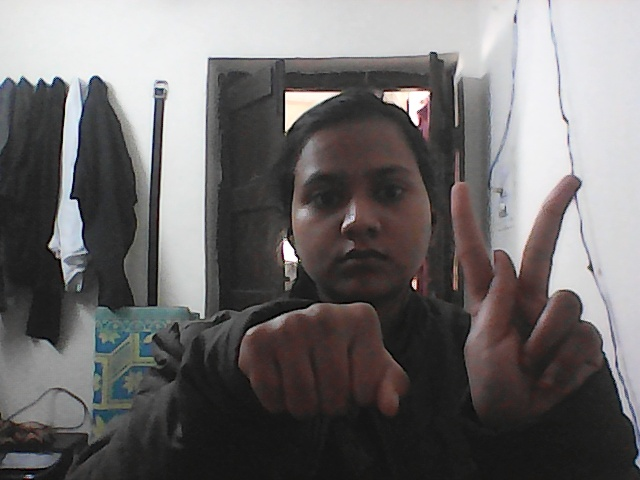OK: (231, 143, 639, 431)
